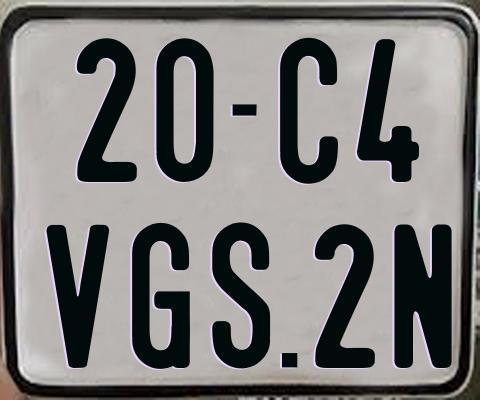0: (156, 38, 215, 188)
2: (312, 222, 378, 371), (75, 36, 141, 180)
4: (357, 39, 419, 184)
C: (280, 37, 341, 186)
G: (131, 221, 189, 370)
N: (392, 223, 454, 371)
S: (211, 219, 271, 366)
V: (43, 225, 109, 373)
